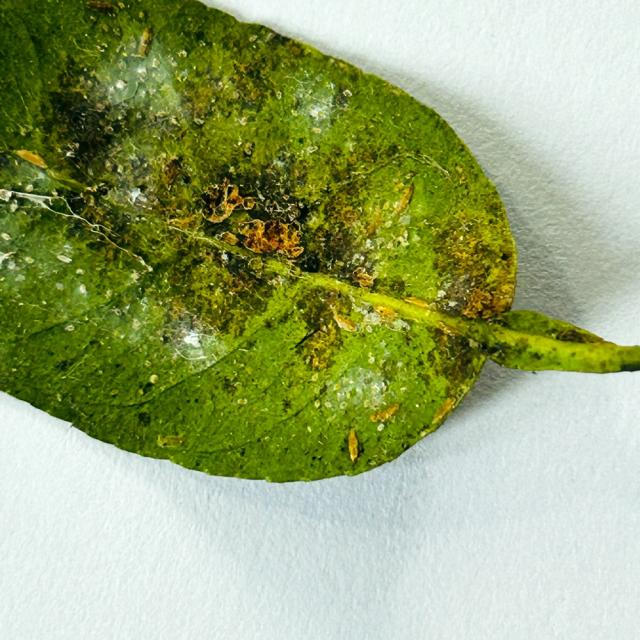Bacterial_Blight: (0, 175, 144, 343), (5, 291, 180, 416), (155, 350, 304, 451), (196, 46, 299, 134), (358, 198, 443, 291), (439, 218, 514, 311), (287, 287, 350, 367), (75, 178, 151, 242), (204, 267, 273, 335), (320, 179, 380, 245), (247, 162, 310, 221), (119, 152, 160, 199), (439, 348, 476, 397), (376, 351, 410, 389), (0, 201, 24, 241)
Lemon: (0, 0, 639, 486)
